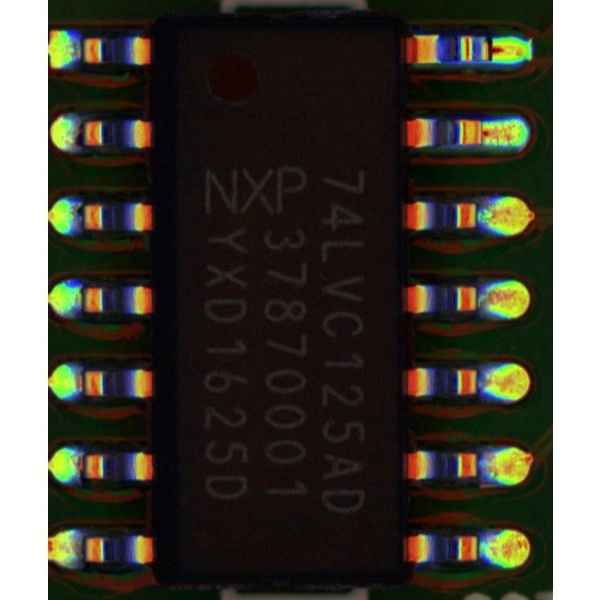Bad_podu: (475, 41, 504, 59), (468, 128, 497, 142)
